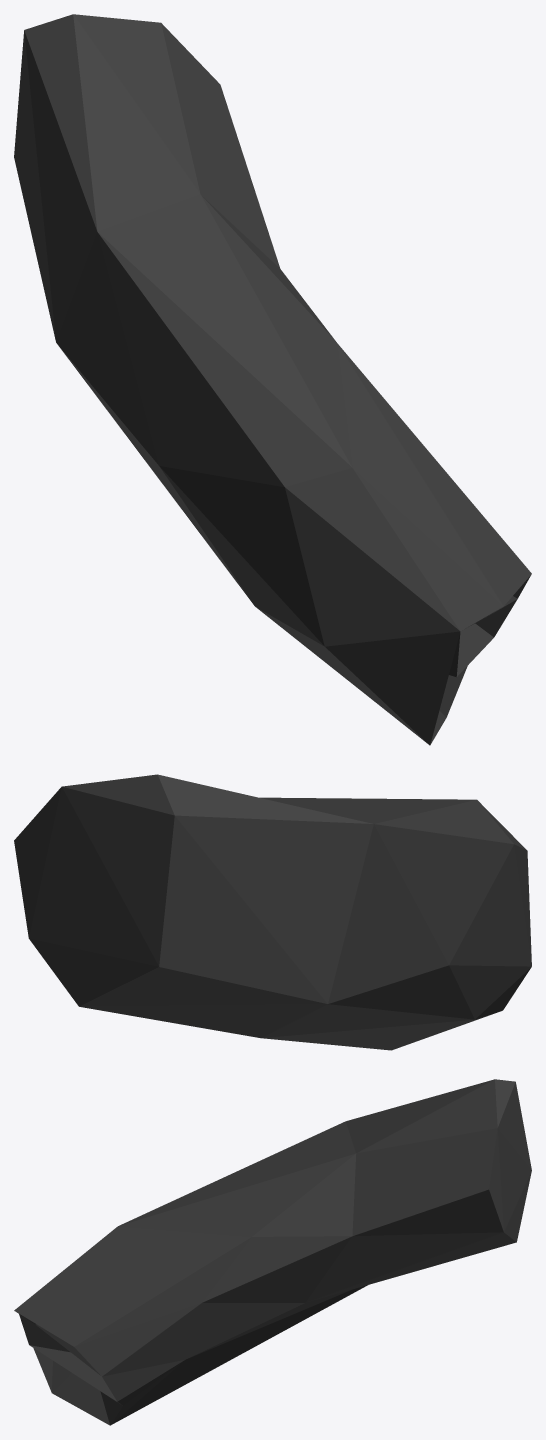
The picture shows the model from 3 angles, top to bottom: view 1: azimuth 30°, elevation 25°; view 2: azimuth 150°, elevation 25°; view 3: azimuth 270°, elevation 25°; orthographic projection. The views are drawn at different scales.
Visible parts, largest first — view 1: world; view 2: world; view 3: world.
Part boxes in pixels (<box>): world: <box>14,14,531,745</box>; world: <box>14,774,531,1050</box>; world: <box>14,1079,531,1425</box>.
Size of the model in its own units: 0.1486 by 0.2974 by 0.432.
1 material, 1 textured.
